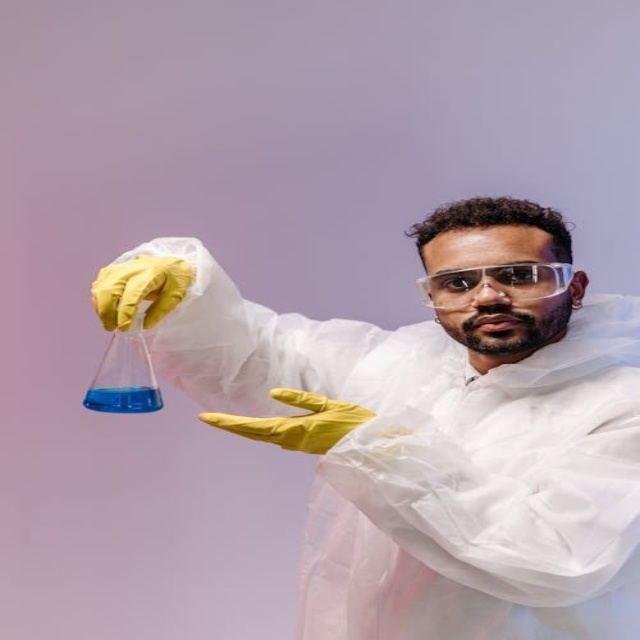Gafas: (413, 262, 577, 308)
Guantes: (201, 388, 386, 455), (90, 254, 194, 333)
Sin_mascara: (457, 313, 534, 344)
